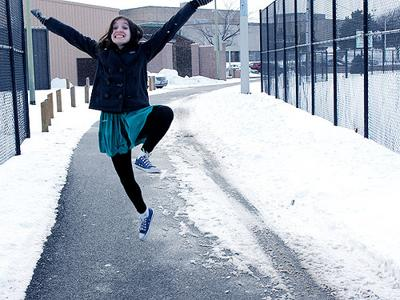person: (30, 2, 214, 241)
